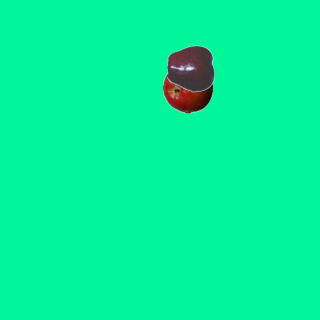Apple Braeburn: (162, 63, 212, 113)
Apple Red Delicious: (166, 43, 216, 93)
